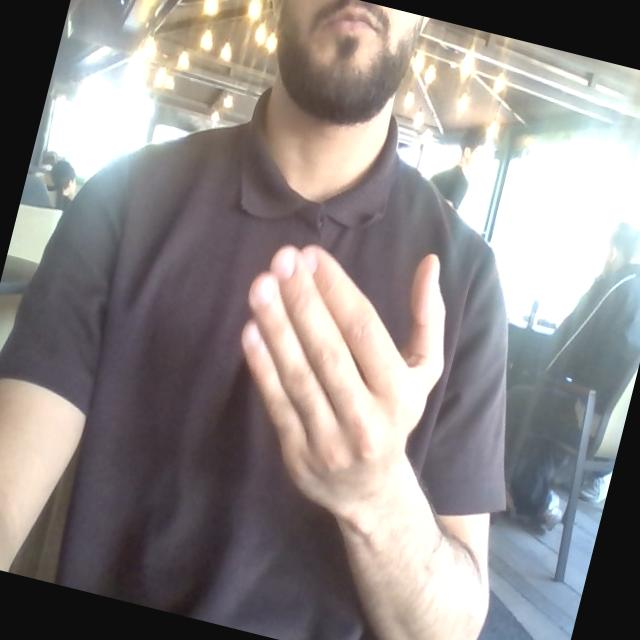Hand: (242, 246, 444, 521)
